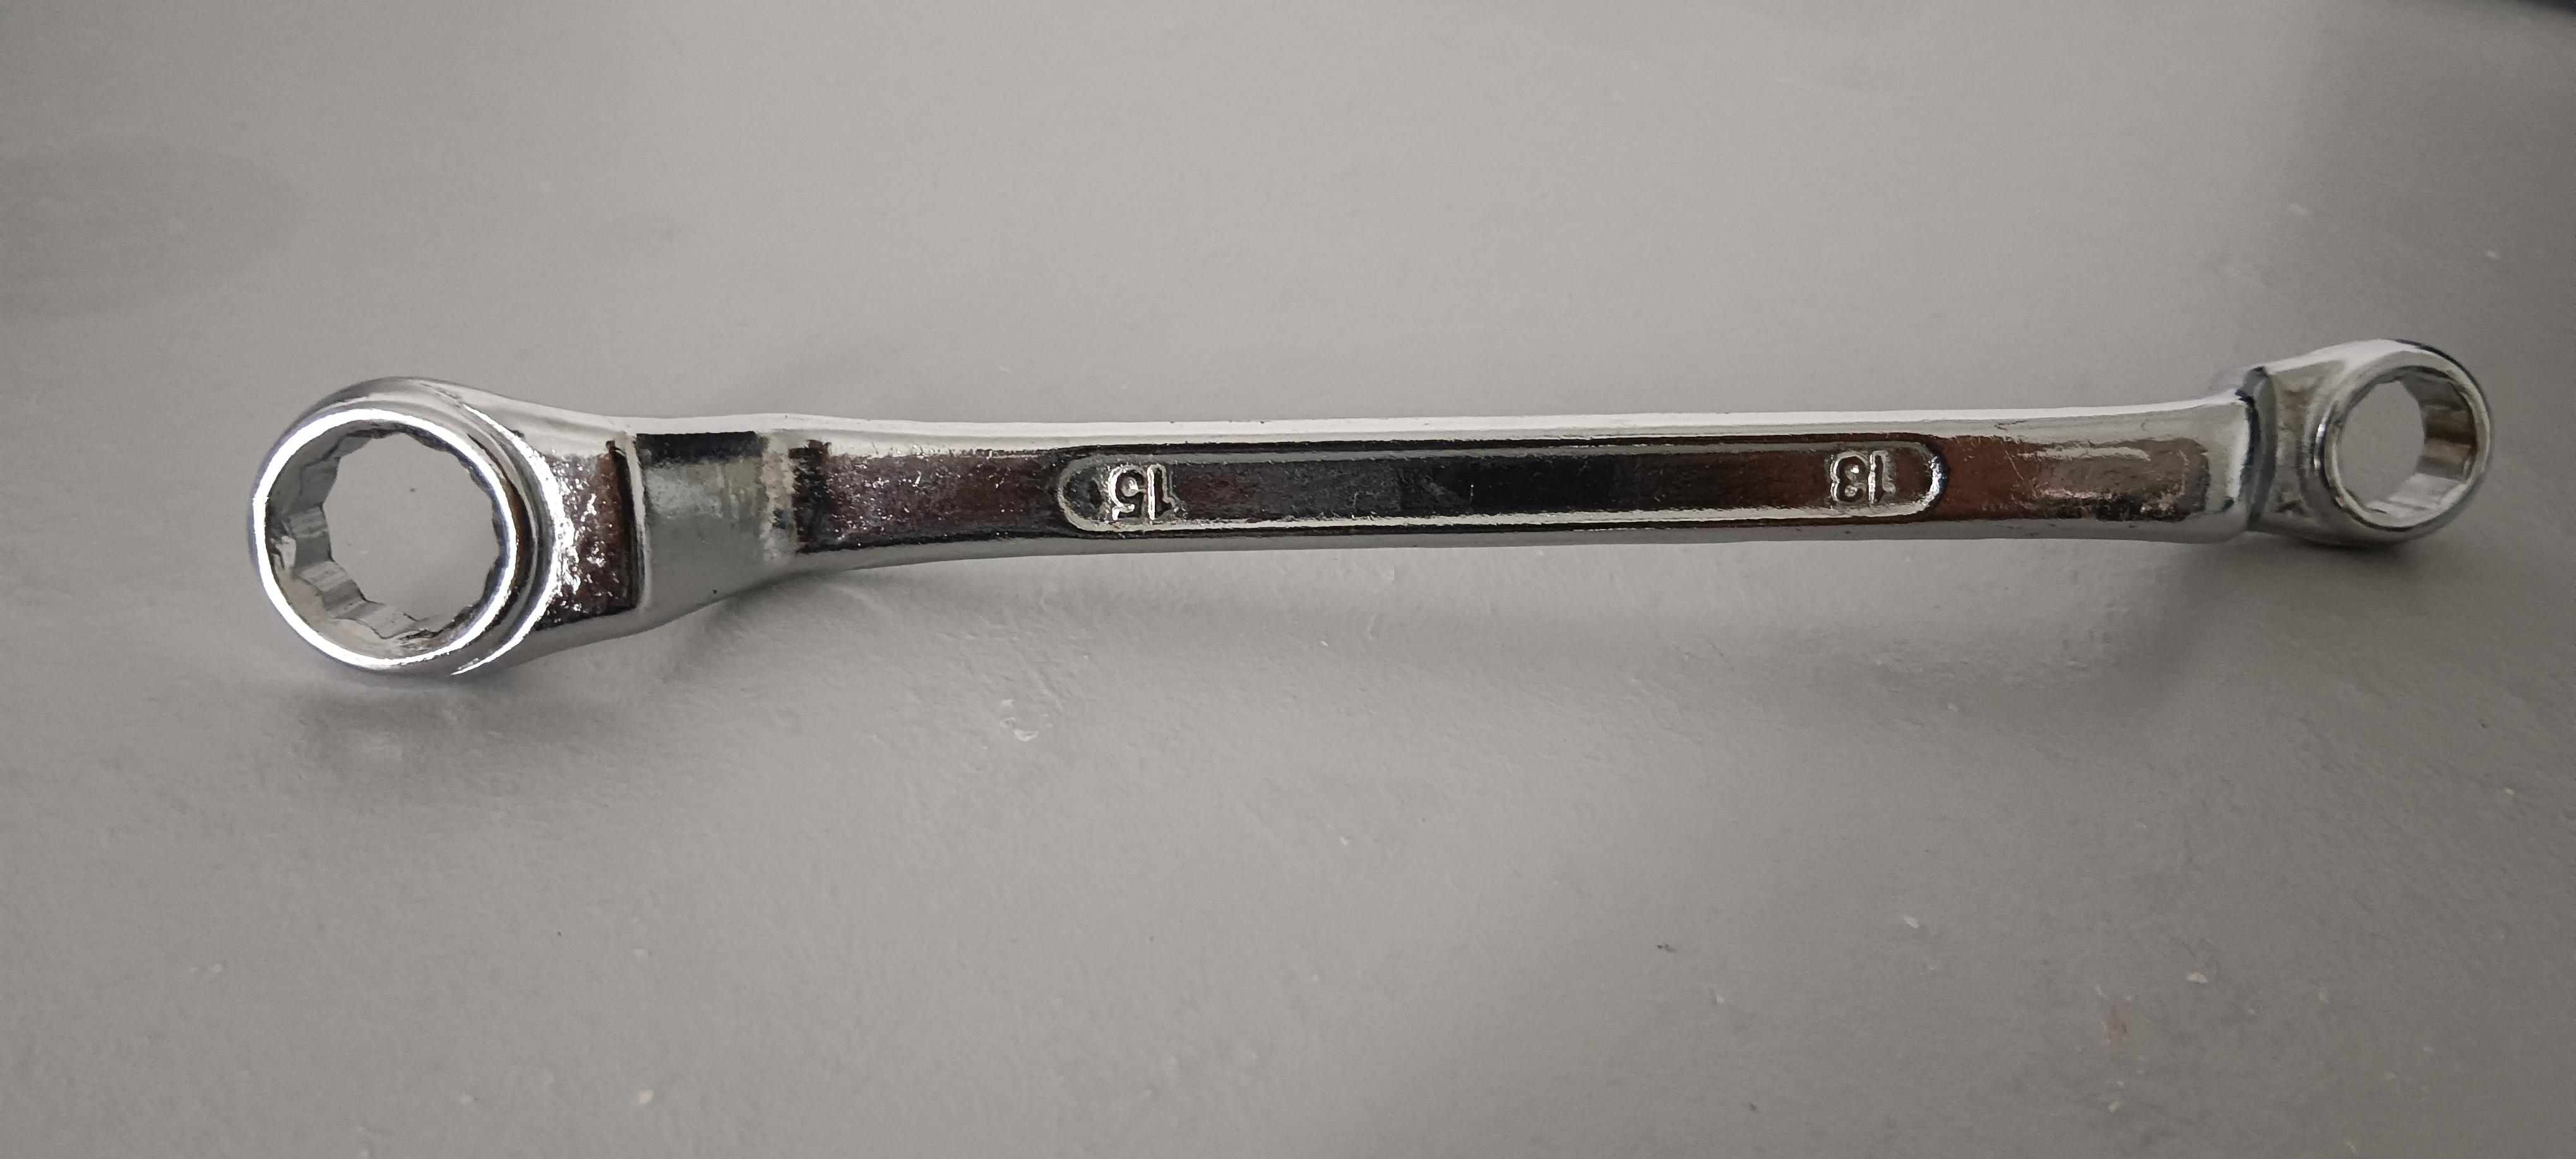Spanners: (148, 291, 2558, 694)
